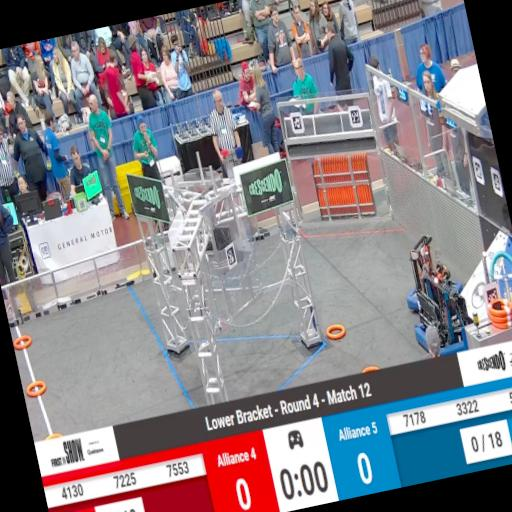robot: (394, 228, 476, 360)
